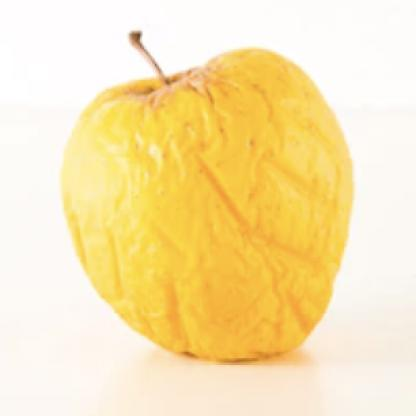Rotten Apple: (54, 52, 354, 361)
